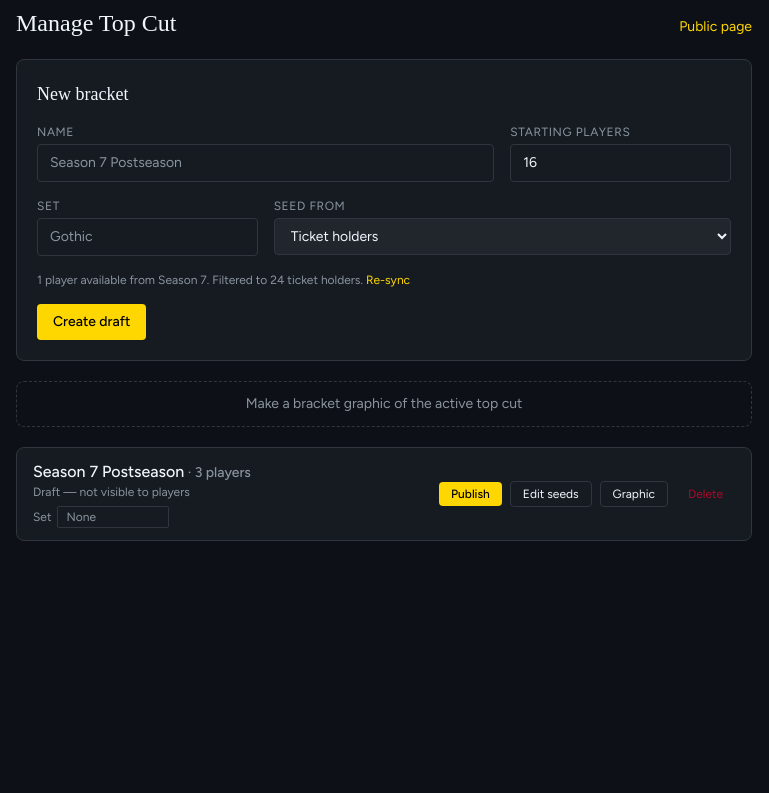
Test: BracketsAdmin › previews the bracket the current seeding would produce
Click the button "Edit seeds" at (551, 494), box [510,481,592,507]
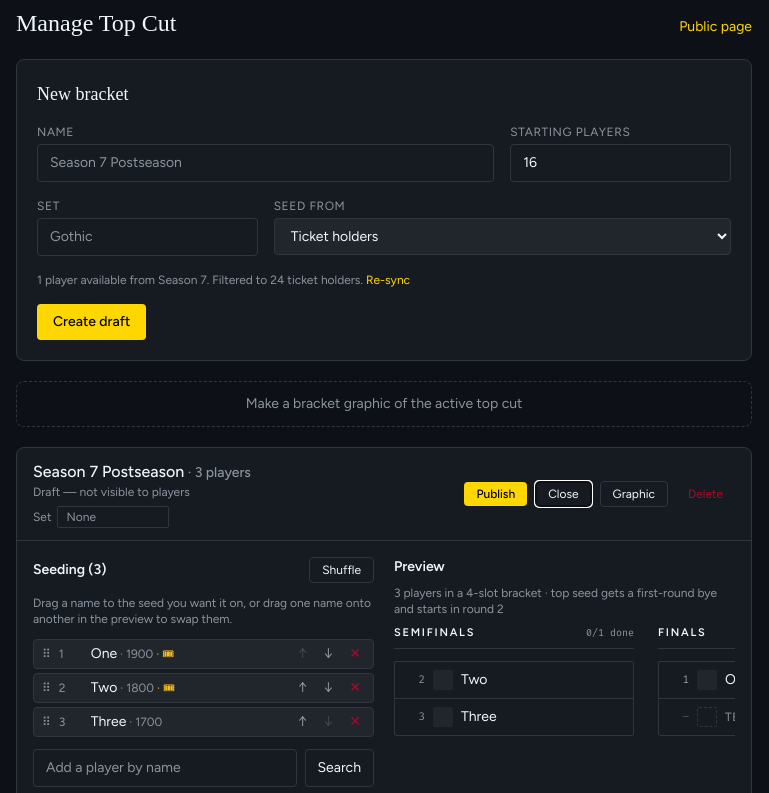
Now the heading "Preview" is shown, box [394,558,445,575]
Now the text "top seed gets a first-round bye and starts in round 2" is shown, box [394,586,717,616]
Now the heading "Semifinals" is shown, box [394,625,475,642]
